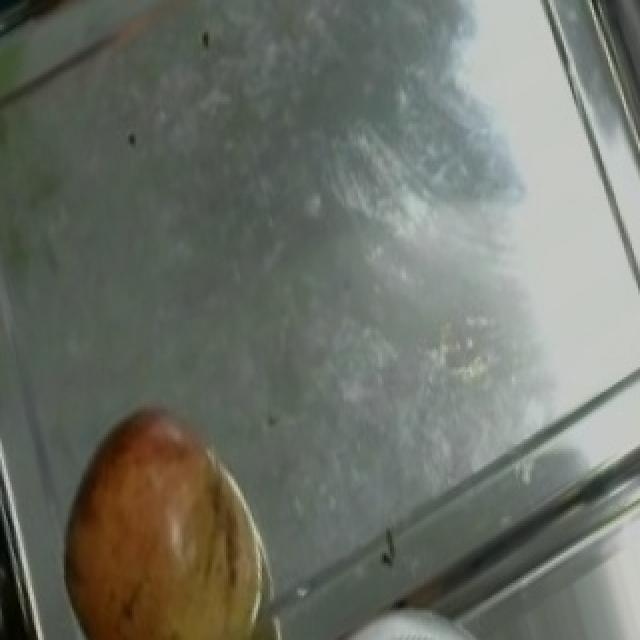fruit: (32, 382, 298, 640)
